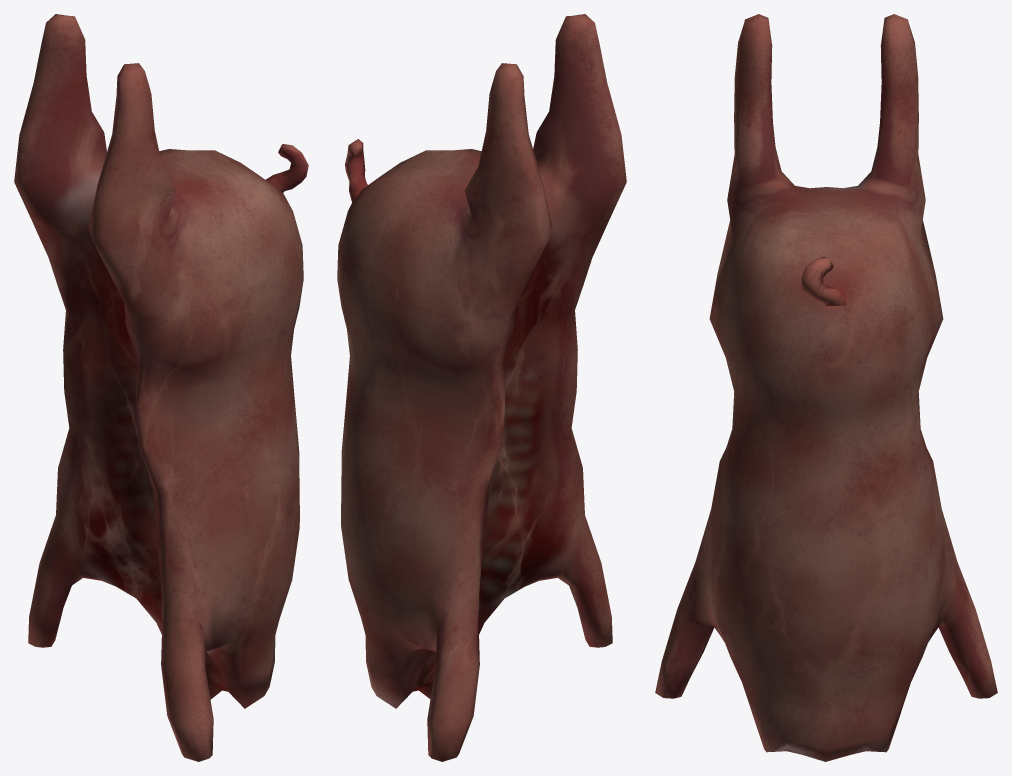
The model's file is dead_pig.glb.
3 views of the same model, side by side, from view 1: azimuth 30°, elevation 25°; view 2: azimuth 150°, elevation 25°; view 3: azimuth 270°, elevation 25° (orthographic).
Parts seen in each view (by area): view 1: Cube.003; view 2: Cube.003; view 3: Cube.003.
Boxes of the visible parts, x1,y1,x2,y2 form: Cube.003: (14,14,308,761); Cube.003: (337,14,626,761); Cube.003: (655,14,997,761).
Bounding box in the file's own units: 1.11 × 2.93 × 1.33.
1 material, 1 textured.
